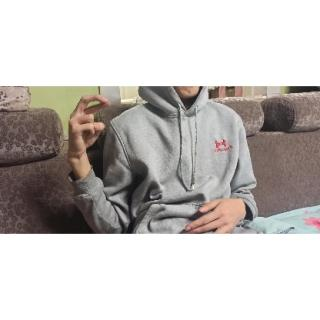ZAY: (64, 90, 116, 160)
